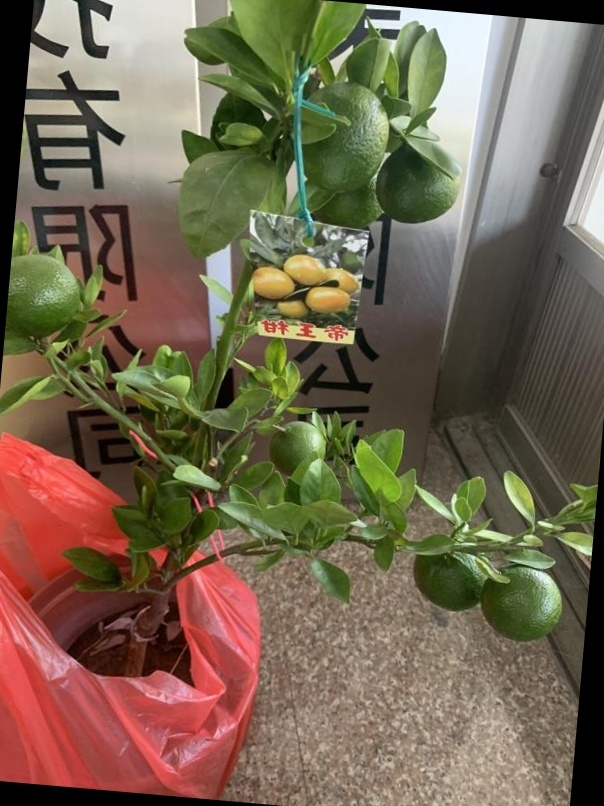Tangerine: (303, 78, 389, 192), (376, 143, 461, 225), (11, 248, 79, 339), (481, 566, 562, 641), (412, 543, 483, 614), (274, 415, 331, 472)
